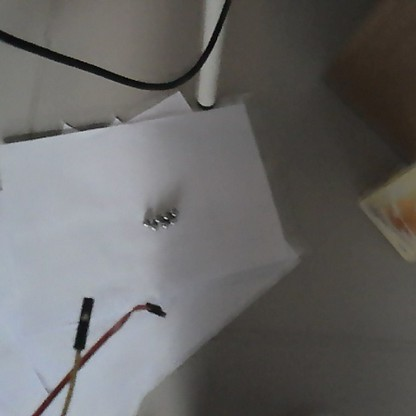ironball: (158, 221, 169, 232), (169, 206, 179, 217), (141, 216, 151, 227), (160, 211, 170, 221), (149, 223, 159, 233), (152, 214, 163, 223), (166, 216, 176, 225)
